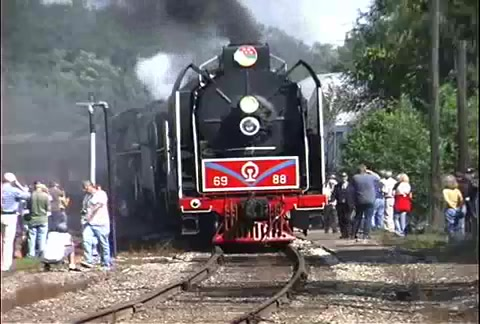train: (100, 40, 328, 255)
